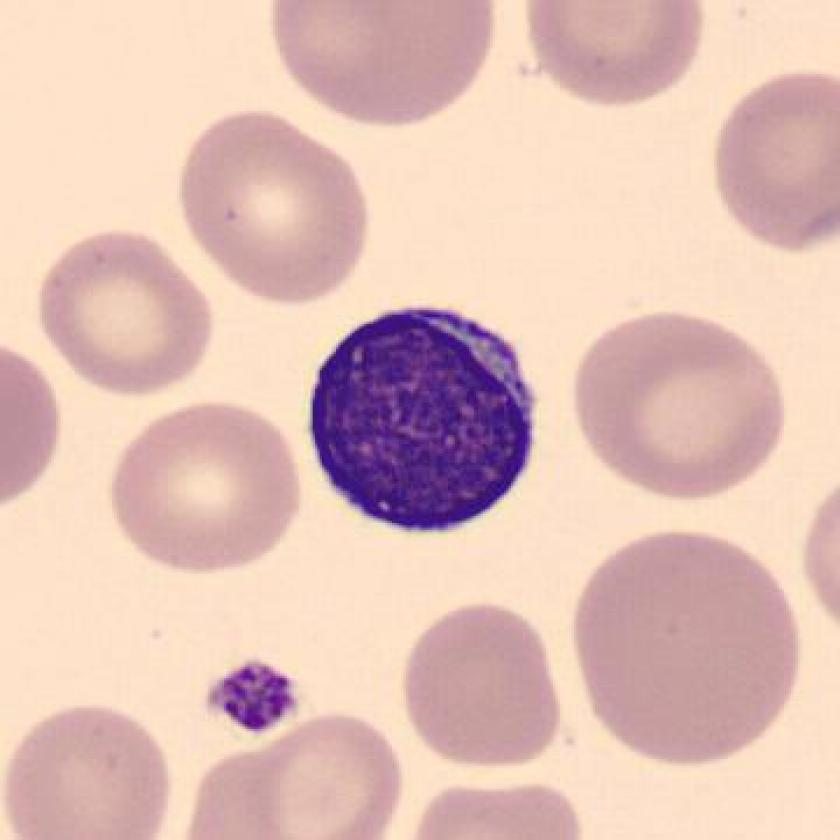lymphocyte: (293, 300, 552, 552)
